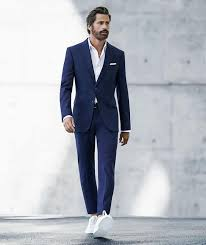F_M_suit jacket: (56, 41, 139, 136)
F_dress pants: (69, 124, 123, 219)
F_shirt: (85, 36, 107, 76)
